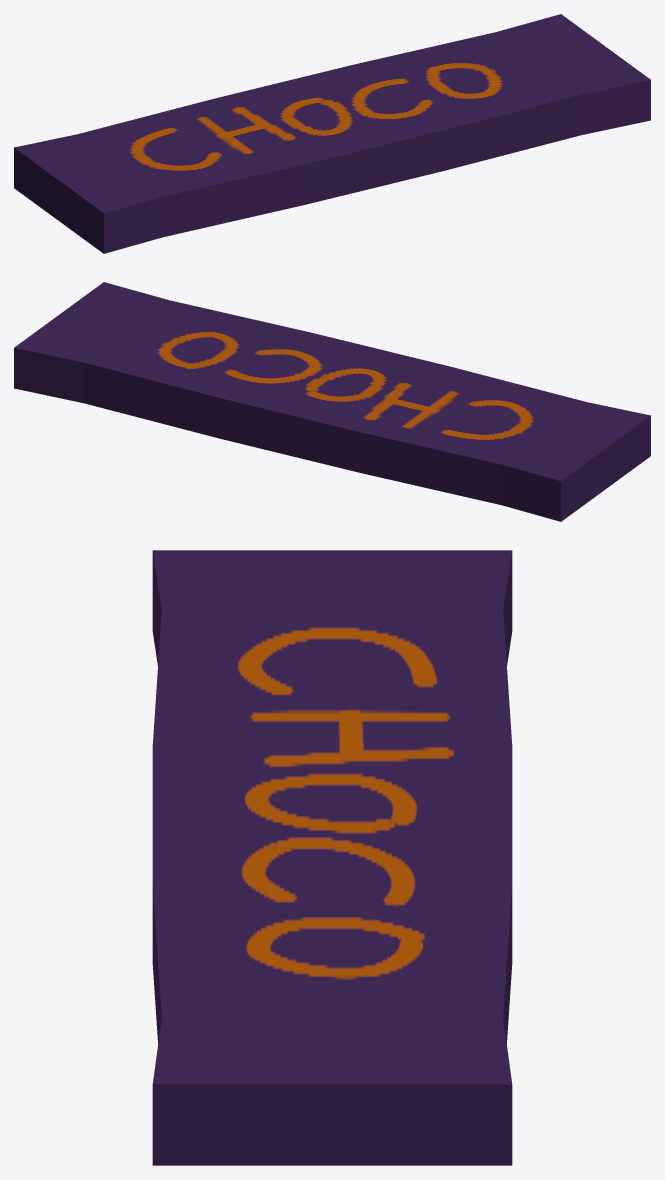
The model's file is Collectible Item.fbx_Chocolate.fbx.
The picture shows the model from 3 angles, top to bottom: view 1: azimuth 30°, elevation 25°; view 2: azimuth 150°, elevation 25°; view 3: azimuth 270°, elevation 25°; orthographic projection. The views are drawn at different scales.
Parts seen in each view (by area): view 1: Chocolate; view 2: Chocolate; view 3: Chocolate.
Boxes of the visible parts, x1,y1,x2,y2 form: Chocolate: [14, 14, 650, 253]; Chocolate: [14, 282, 650, 521]; Chocolate: [152, 550, 512, 1165].
Size of the model in its own units: 1.57 by 0.1115 by 0.4468.
Materials: 1 (1 with a texture image).
